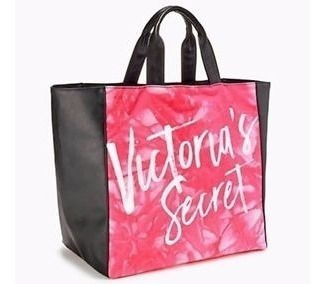cartera: (48, 5, 271, 279)
